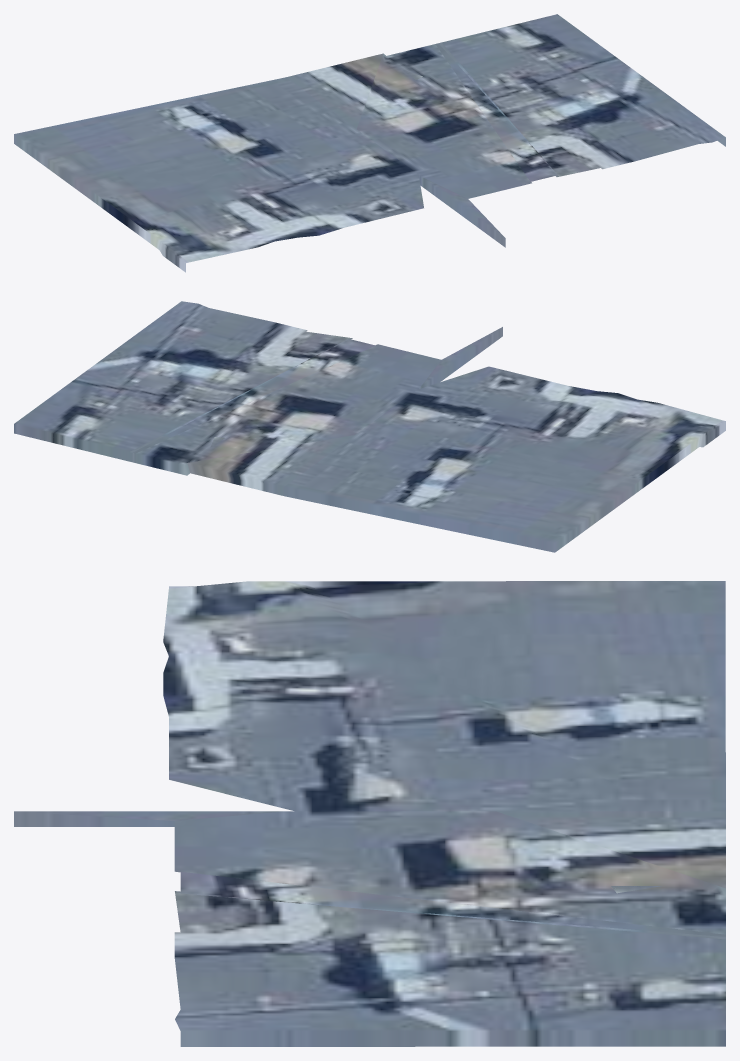
3 renders of one model, top to bottom at view 1: azimuth 30°, elevation 25°; view 2: azimuth 150°, elevation 25°; view 3: azimuth 270°, elevation 25°, orthographic. The views are drawn at different scales.
Parts seen in each view (by area): view 1: 30436272704370605523_0; view 2: 30436272704370605523_0; view 3: 30436272704370605523_0.
Boxes of the visible parts, box(x1,y1,x2,y2) form: 30436272704370605523_0: box(14, 14, 725, 272); 30436272704370605523_0: box(14, 301, 725, 552); 30436272704370605523_0: box(14, 581, 725, 1046).
Bounding box in the file's own units: 27.31 × 1.07 × 19.13.
Materials: 1 (1 with a texture image).
